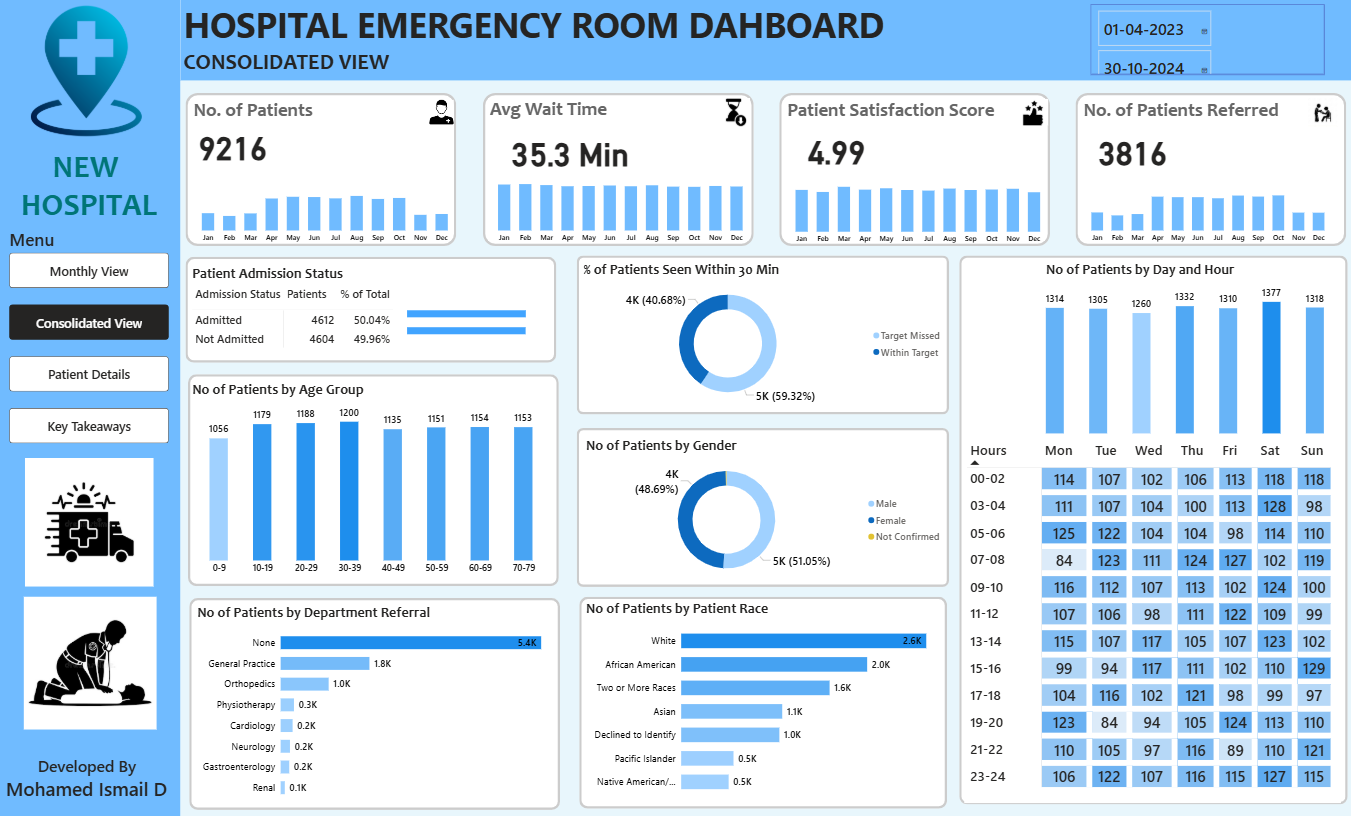

The page's visual inventory and layout, read from the dashboard file:
{"tool":"powerbi","page":{"name":"Consolidated View","canvas":[2300,1400],"ordinal":1},"visuals":[{"type":"shape","box":[319.5,161.5,460,260],"z":0},{"type":"shape","box":[0,0,309.8,1400],"z":1000},{"type":"shape","box":[309.8,0,1990.2,140],"z":2000},{"type":"textbox","box":[310,0,1215,100],"z":3000},{"type":"textbox","box":[310,80,422.5,60],"z":4000},{"type":"card","fields":{"Values":["Hospital ER_Data.No of Patients"]},"box":[310,217.5,177.5,65],"z":5000},{"type":"slicer","fields":{"Values":["Date Table.Date"]},"box":[1856.4,9.7,398,118.9],"z":7000},{"type":"textbox","box":[327.5,165,225,60],"z":8000},{"type":"columnChart","fields":{"Category":["Date Table.Month Name"],"Y":["Hospital ER_Data.No of Patients"]},"box":[327.5,295.5,457.5,130],"z":9000},{"type":"shape","box":[1830.6,161.5,460,260],"z":11000},{"type":"card","fields":{"Values":["Hospital ER_Data.No of Patient Referred"]},"box":[1839.1,225,177.5,66.6],"z":12000},{"type":"textbox","box":[1840,165,347.5,60],"z":13000},{"type":"columnChart","fields":{"Category":["Date Table.Month Name"],"Y":["Hospital ER_Data.No of Patient Referred"]},"box":[1839.1,294.8,434,130],"z":14000},{"type":"shape","box":[1326.9,161.5,460,260],"z":15000},{"type":"card","fields":{"Values":["Hospital ER_Data.Satisfaction Score"]},"box":[1335,222.5,177.5,67.5],"z":16000},{"type":"textbox","box":[1335,165,380,57.5],"z":17000},{"type":"columnChart","fields":{"Category":["Date Table.Month Name"],"Y":["Hospital ER_Data.Satisfaction Score"]},"box":[1335,298,455,130],"z":18000},{"type":"shape","box":[823.2,161.5,460,260],"z":19000},{"type":"card","fields":{"Values":["Hospital ER_Data.Avg Wait Time"]},"box":[859,228.1,228.1,65.5],"z":20000},{"type":"textbox","box":[830,162.5,225,60],"z":21000},{"type":"columnChart","fields":{"Category":["Date Table.Month Name"],"Y":["Avg(Hospital ER_Data.Patient Waittime)"]},"box":[830,295.5,455,130],"z":22000},{"type":"shape","box":[319.5,439.5,630,180],"z":23000},{"type":"pivotTable","title":"Patient Admission Status ","fields":{"Rows":["Hospital ER_Data.Admission Status"],"Values":["Hospital ER_Data.No of Patients1","Hospital ER_Data.No of Patients"]},"box":[325,452.5,620,167.5],"z":24000},{"type":"barChart","fields":{"Category":["Hospital ER_Data.Admission Status"],"Y":["Hospital ER_Data.No of Patients"]},"box":[690,502.5,272.5,90],"z":25000},{"type":"shape","box":[322,639.3,630,360],"z":26000},{"type":"clusteredColumnChart","fields":{"Category":["Hospital ER_Data.Age Group"],"Y":["Hospital ER_Data.No of Patients"]},"box":[325,650,620,340],"z":27000},{"type":"shape","box":[324.5,1019.5,630,360],"z":28000},{"type":"clusteredBarChart","fields":{"Category":["Hospital ER_Data.Department Referral"],"Y":["Hospital ER_Data.No of Patients"]},"box":[332.5,1027.5,622.5,345],"z":29000},{"type":"shape","box":[982.5,437.5,632.5,270],"z":30000},{"type":"donutChart","title":"% of Patients  Seen Within 30 Min","fields":{"Category":["Hospital ER_Data.Waittime Status"],"Y":["Hospital ER_Data.No of Patients"]},"box":[990,445,625,252.5],"z":31000},{"type":"shape","box":[982.5,730,632.5,270],"z":32000},{"type":"donutChart","title":"No of Patients by Gender ","fields":{"Y":["Hospital ER_Data.No of Patients"],"Category":["Hospital ER_Data.Patient Gender"]},"box":[995,745,620,252.5],"z":33000},{"type":"shape","box":[987.5,1017.5,625,360],"z":34000},{"type":"clusteredBarChart","fields":{"Y":["Hospital ER_Data.No of Patients"],"Category":["Hospital ER_Data.Patient Race"]},"box":[995,1022.5,617.5,345],"z":35000},{"type":"shape","box":[1632.5,437.5,660,932.5],"z":36000},{"type":"pivotTable","fields":{"Rows":["Hospital ER_Data.Waittime Interval"],"Columns":["Date Table.Day Name"],"Values":["Hospital ER_Data.No of Patients"]},"box":[1642.5,745,640,622.5],"z":37000},{"type":"columnChart","title":"No of Patients by Day and Hour","fields":{"Category":["Date Table.Day Name"],"Y":["Hospital ER_Data.No of Patients"]},"box":[1775,445,485,300],"z":38000},{"type":"image","box":[732.9,169.9,41.3,48.5],"z":39000},{"type":"image","box":[1223,169.9,60.7,48.5],"z":40000},{"type":"image","box":[1732.6,169.9,51,48.5],"z":41000},{"type":"image","box":[2220.4,169.9,63.1,48.5],"z":42000},{"type":"image","box":[0,12.5,300,222.5],"z":43000},{"type":"pageNavigator","title":"Menu ","box":[19.4,388.3,271.8,368.9],"z":43001},{"type":"textbox","box":[4.9,1281.1,300.9,118.9],"z":43002},{"type":"image","box":[4.9,781.4,300.9,218.4],"z":43003},{"type":"image","box":[31.5,1016.8,249.9,225.7],"z":43004},{"type":"textbox","box":[4.9,247.5,300.9,140.7],"z":43005}]}

Visuals, with their boxes in screenshot pixels (x1, y1, x2, y2), scaled from the page's 2300x1400 canvas onto the 1351x816 screenshot:
shape: region(188, 94, 458, 246)
shape: region(0, 0, 182, 815)
shape: region(182, 0, 1350, 82)
textbox: region(182, 0, 896, 58)
textbox: region(182, 47, 430, 82)
card - Hospital ER_Data.No of Patients: region(182, 127, 286, 165)
slicer - Date Table.Date: region(1090, 6, 1324, 75)
textbox: region(192, 96, 325, 131)
columnChart - Date Table.Month Name x Hospital ER_Data.No of Patients: region(192, 172, 461, 248)
shape: region(1075, 94, 1345, 246)
card - Hospital ER_Data.No of Patient Referred: region(1080, 131, 1185, 170)
textbox: region(1081, 96, 1285, 131)
columnChart - Date Table.Month Name x Hospital ER_Data.No of Patient Referred: region(1080, 172, 1335, 248)
shape: region(779, 94, 1050, 246)
card - Hospital ER_Data.Satisfaction Score: region(784, 130, 888, 169)
textbox: region(784, 96, 1007, 130)
columnChart - Date Table.Month Name x Hospital ER_Data.Satisfaction Score: region(784, 174, 1051, 249)
shape: region(484, 94, 754, 246)
card - Hospital ER_Data.Avg Wait Time: region(505, 133, 639, 171)
textbox: region(488, 95, 620, 130)
columnChart - Date Table.Month Name x Avg(Hospital ER_Data.Patient Waittime): region(488, 172, 755, 248)
shape: region(188, 256, 558, 361)
"Patient Admission Status " pivotTable: region(191, 264, 555, 361)
barChart - Hospital ER_Data.Admission Status x Hospital ER_Data.No of Patients: region(405, 293, 565, 345)
shape: region(189, 373, 559, 582)
clusteredColumnChart - Hospital ER_Data.Age Group x Hospital ER_Data.No of Patients: region(191, 379, 555, 577)
shape: region(191, 594, 561, 804)
clusteredBarChart - Hospital ER_Data.Department Referral x Hospital ER_Data.No of Patients: region(195, 599, 561, 800)
shape: region(577, 255, 949, 412)
"% of Patients  Seen Within 30 Min" donutChart: region(582, 259, 949, 407)
shape: region(577, 425, 949, 583)
"No of Patients by Gender " donutChart: region(584, 434, 949, 581)
shape: region(580, 593, 947, 803)
clusteredBarChart - Hospital ER_Data.No of Patients x Hospital ER_Data.Patient Race: region(584, 596, 947, 797)
shape: region(959, 255, 1347, 799)
pivotTable - Hospital ER_Data.Waittime Interval x Date Table.Day Name: region(965, 434, 1341, 797)
"No of Patients by Day and Hour" columnChart: region(1043, 259, 1328, 434)
image: region(430, 99, 455, 127)
image: region(718, 99, 754, 127)
image: region(1018, 99, 1048, 127)
image: region(1304, 99, 1341, 127)
image: region(0, 7, 176, 137)
"Menu " pageNavigator: region(11, 226, 171, 441)
textbox: region(3, 747, 180, 815)
image: region(3, 455, 180, 583)
image: region(19, 593, 165, 724)
textbox: region(3, 144, 180, 226)
